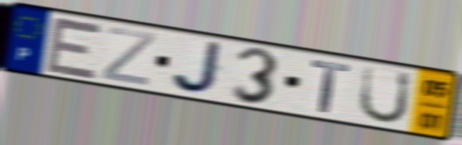3: (231, 46, 282, 107)
E: (43, 14, 107, 82)
J: (169, 39, 227, 96)
T: (309, 58, 352, 116)
U: (356, 64, 414, 126)
Z: (98, 25, 158, 88)
